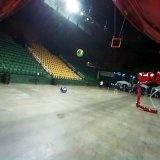Green_Balloon: (77, 49, 84, 56)
Orange_Square_GShape: (111, 37, 121, 48)
Purple_Balloon: (60, 87, 67, 93)
